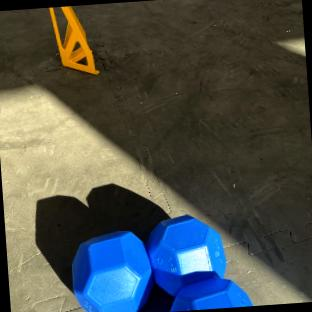V5_BLUE: (70, 215, 250, 312)
